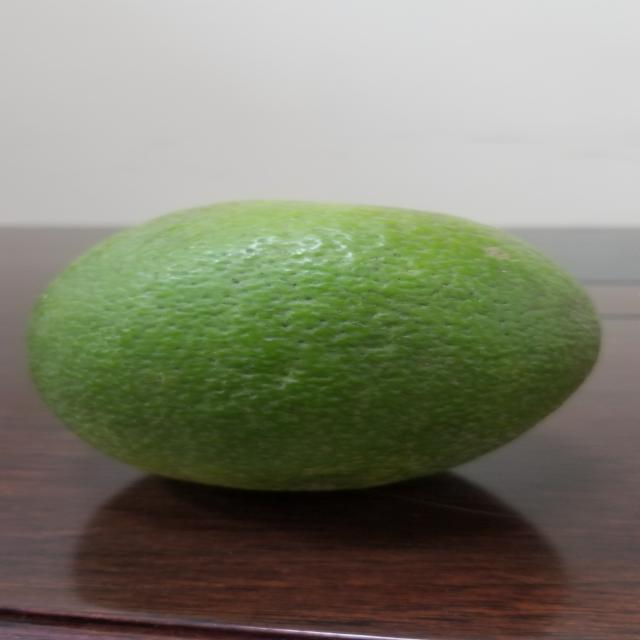Ripe orange: (16, 184, 640, 494)
